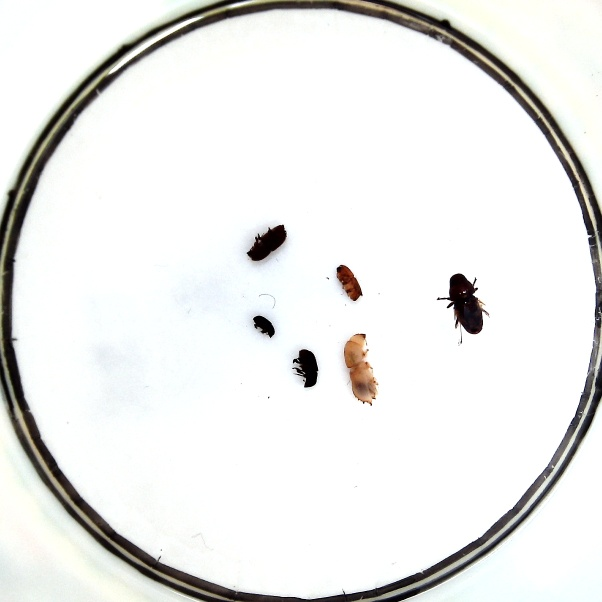acuminatus: (253, 315, 275, 339)
armandi: (298, 349, 318, 388)
boerner: (343, 333, 378, 406)
coleoptera: (449, 273, 483, 334)
linnaeus: (246, 224, 287, 261), (336, 265, 362, 301)
